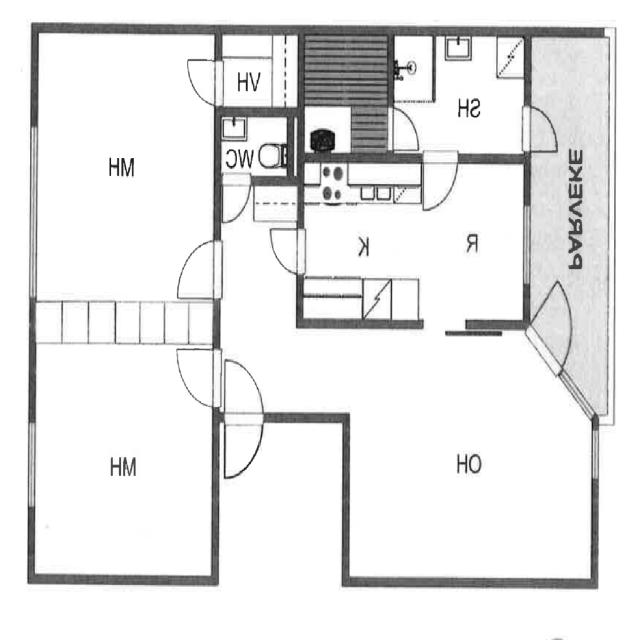door: (218, 355, 267, 479), (172, 232, 224, 308), (173, 341, 221, 410), (535, 282, 574, 366), (418, 148, 460, 214), (182, 51, 225, 108), (265, 220, 305, 277), (523, 101, 562, 157), (217, 172, 254, 226), (387, 102, 422, 156)
window: (18, 114, 47, 310), (23, 419, 40, 516), (519, 200, 536, 290), (587, 421, 602, 487)
zone: (346, 320, 594, 584), (31, 29, 219, 341), (28, 326, 217, 585), (300, 163, 534, 327), (431, 29, 527, 158), (299, 30, 392, 158), (217, 30, 300, 110), (214, 110, 296, 180), (534, 289, 574, 366), (390, 31, 432, 103)
